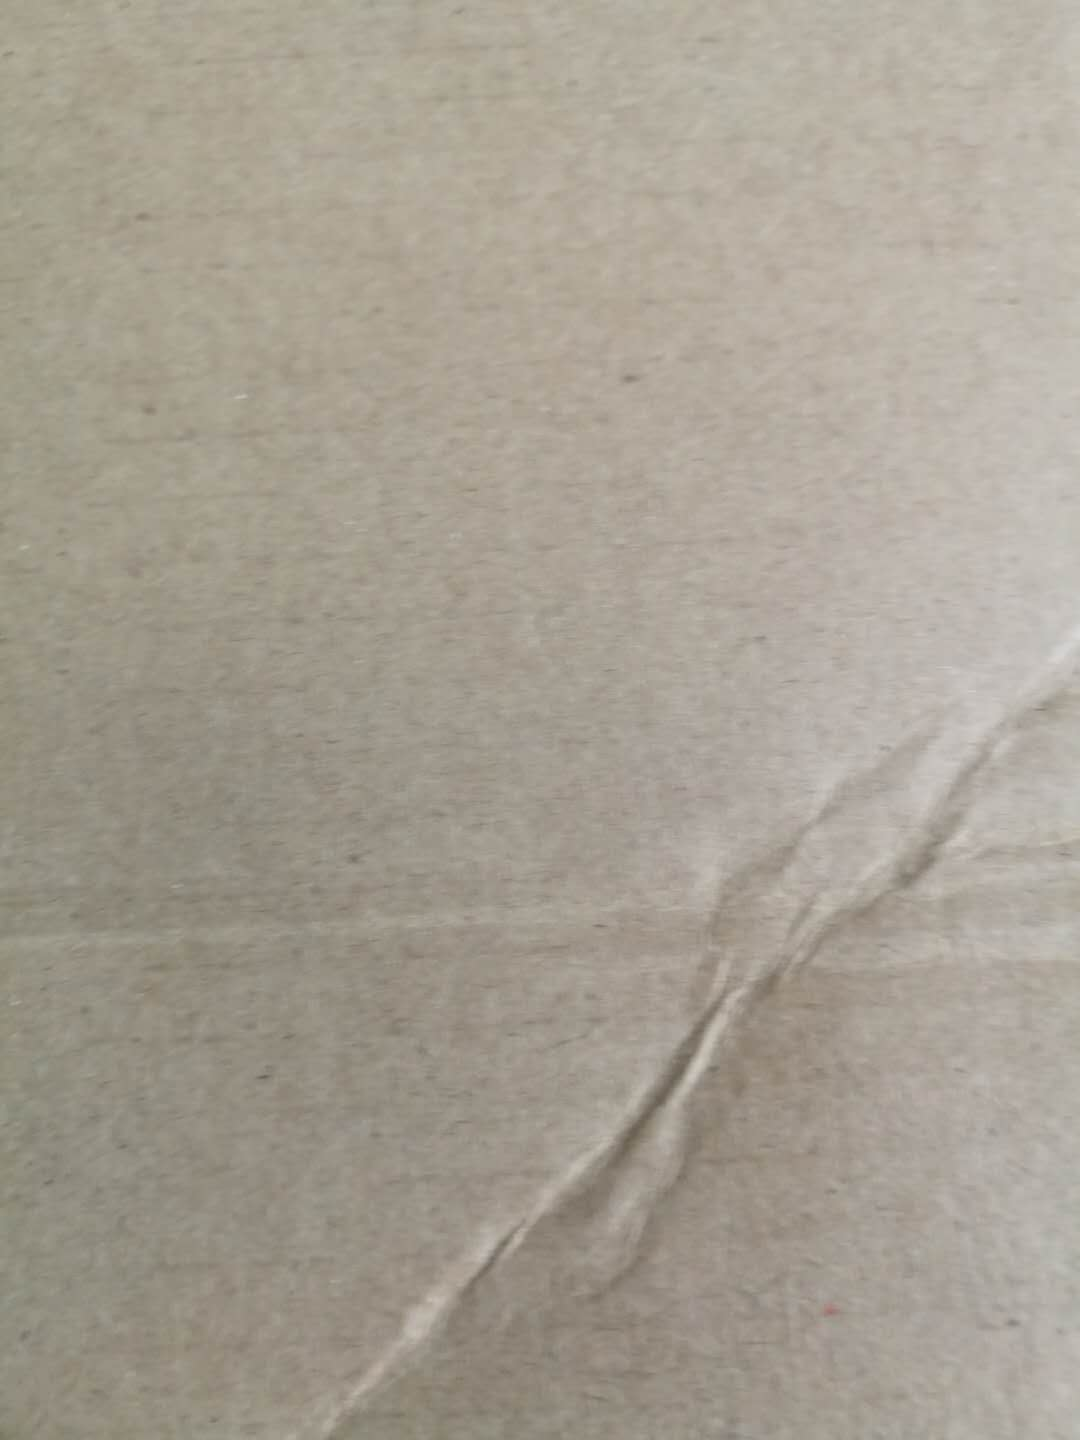defect: (6, 602, 1079, 1440)
